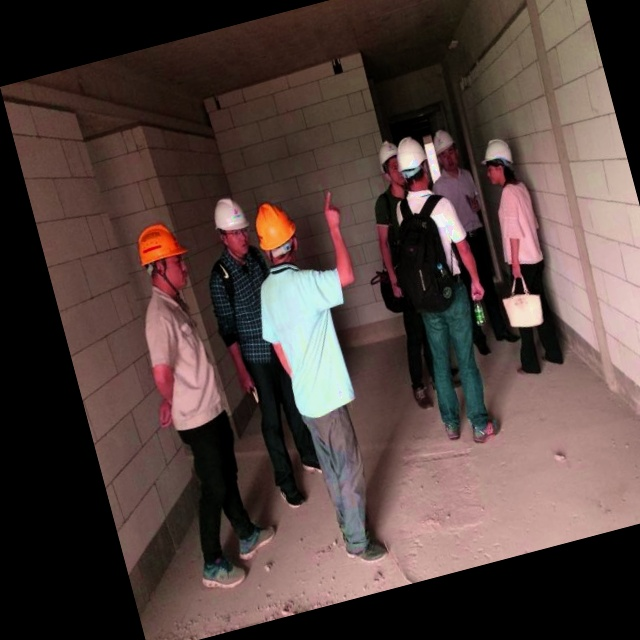Con_Casco: (131, 216, 194, 304), (246, 197, 303, 273), (206, 194, 256, 261), (476, 135, 520, 191)
Sin_Chaleco: (258, 263, 357, 419)
